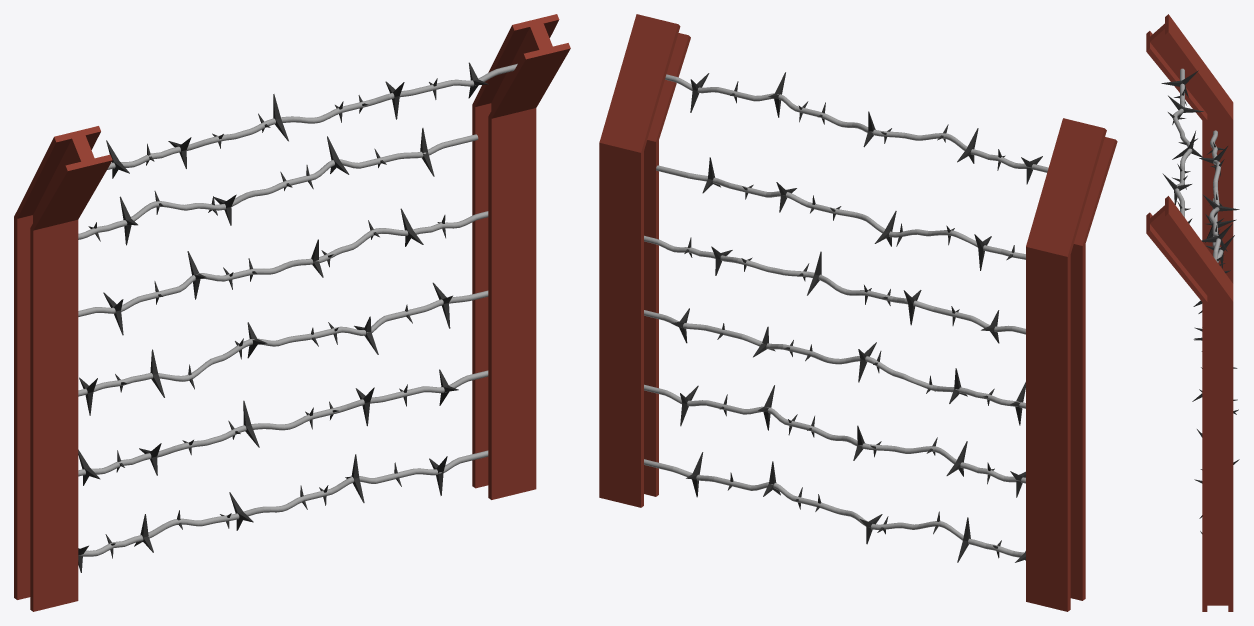
Rendered from ironNet.fbx.
3 renders of one model, left to right at view 1: azimuth 30°, elevation 25°; view 2: azimuth 150°, elevation 25°; view 3: azimuth 270°, elevation 25°, orthographic. The views are drawn at different scales.
Visible parts, largest first — view 1: Cube, Cylinder.001, Cylinder.005; view 2: Cube, Cylinder.001, Cylinder.005; view 3: Cube, Cylinder.005, Cylinder.001.
Part boxes in pixels (x1,y1,x2,y2): Cube: (14,14,570,611); Cylinder.001: (78,63,517,556); Cylinder.005: (78,62,488,572); Cube: (599,14,1117,611); Cylinder.001: (644,74,1048,557); Cylinder.005: (671,72,1042,562); Cube: (1146,14,1233,611); Cylinder.005: (1161,70,1239,533); Cylinder.001: (1173,68,1223,262).
Size of the model in its own units: 1739 by 1620 by 345.
